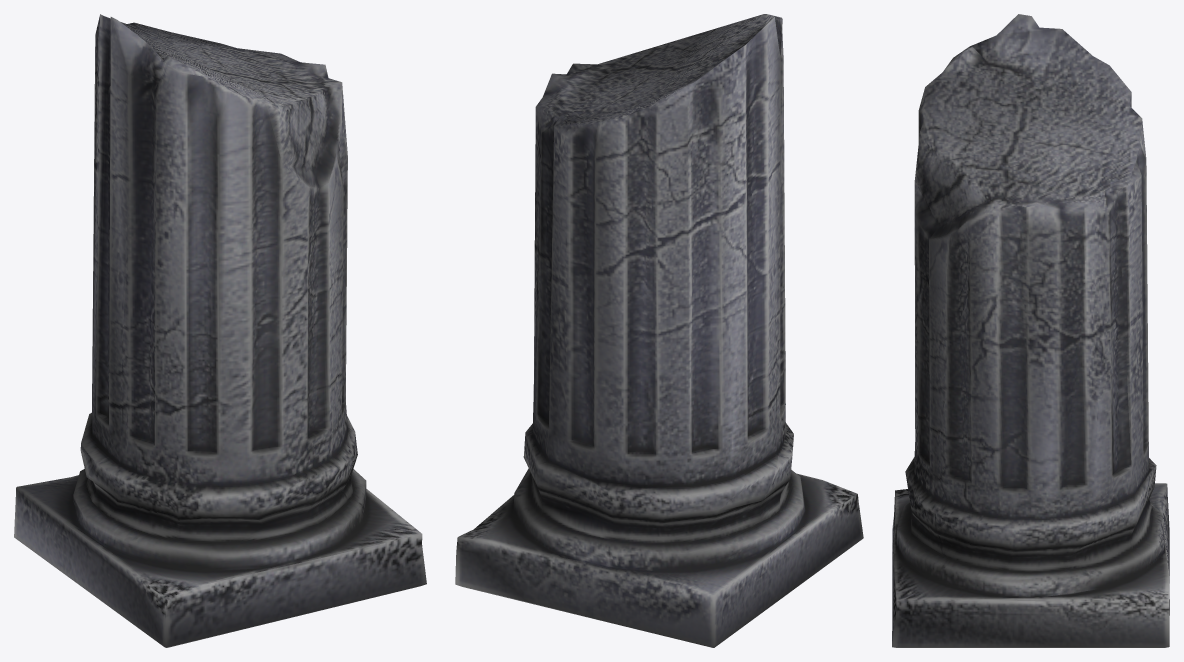
File: column.FBX
3 views of the same model, side by side, from view 1: azimuth 30°, elevation 25°; view 2: azimuth 150°, elevation 25°; view 3: azimuth 270°, elevation 25° (orthographic). The views are drawn at different scales.
Visible parts, largest first — view 1: column; view 2: column; view 3: column.
Part boxes in pixels (left/top/right/bottom): column: left=14, top=14, right=426, bottom=647; column: left=455, top=14, right=863, bottom=647; column: left=892, top=14, right=1169, bottom=647.
Bounding box in the file's own units: 69.75 × 69.74 × 146.
Materials: 1 (1 with a texture image).
